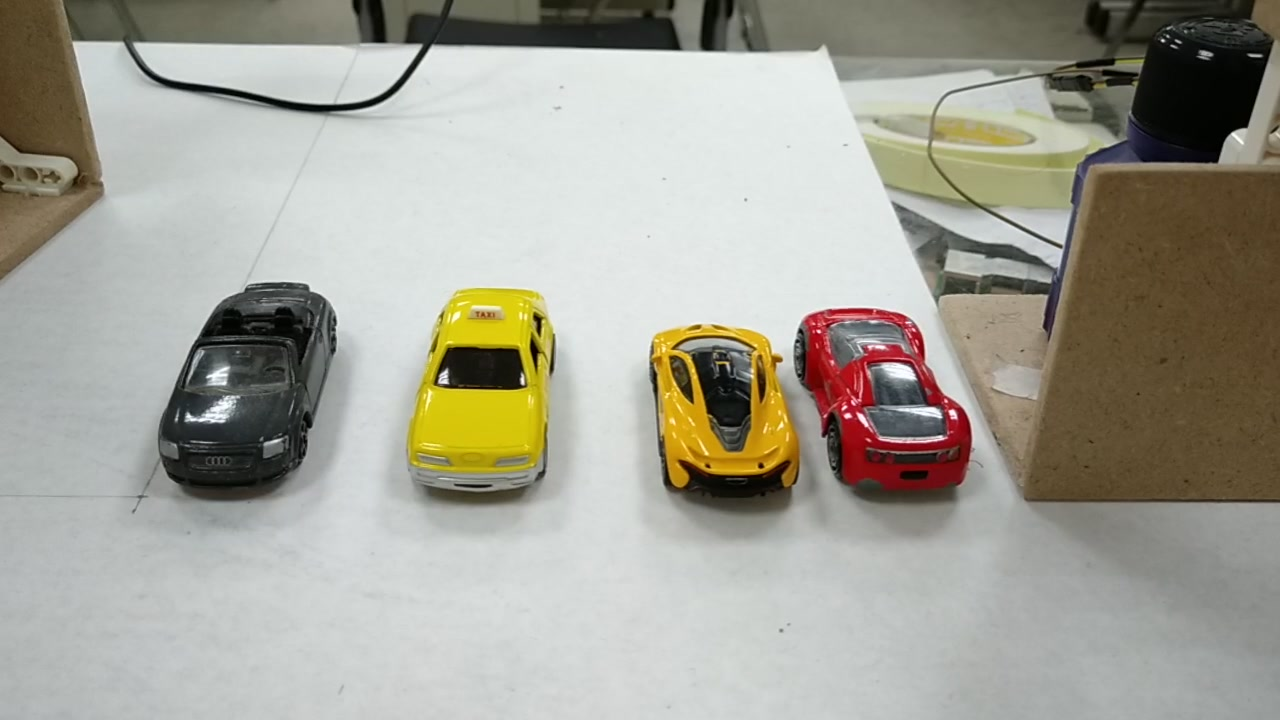car: (156, 289, 354, 488), (404, 293, 572, 492), (802, 311, 975, 498), (645, 320, 794, 497)
